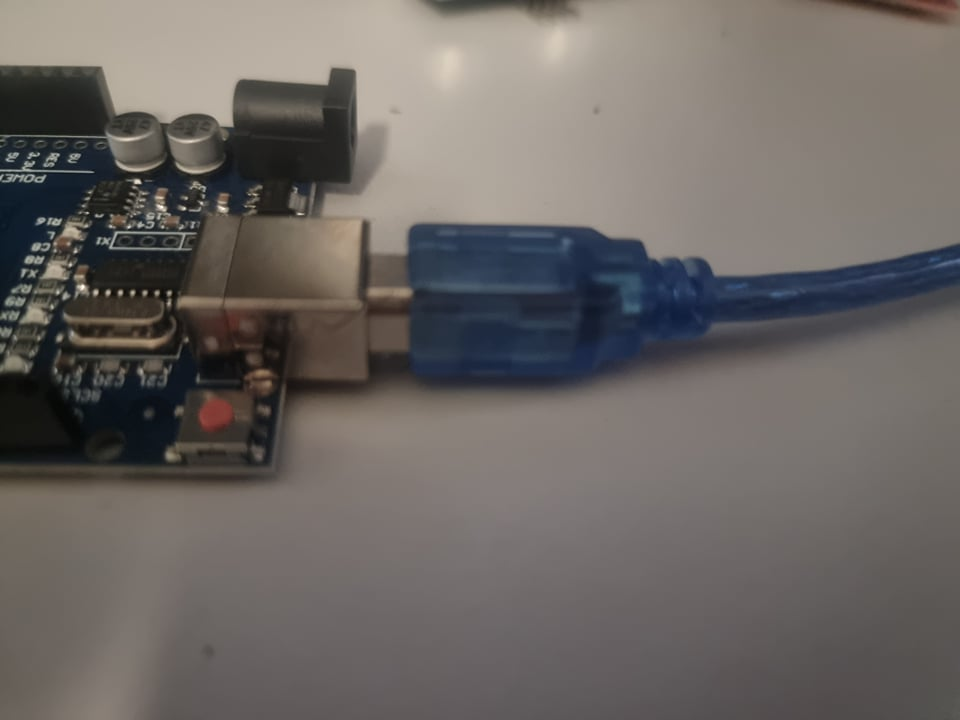UNO R3: (1, 63, 373, 503)
